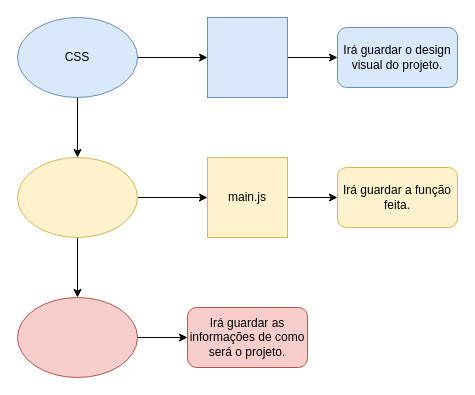
Some shapes in this 475 by 395 pixel diagram are drawn without their labels. Each missing label, with the centre of its shape:
index.html: the point at 77,337
JS: the point at 77,197
style.css: the point at 247,57
